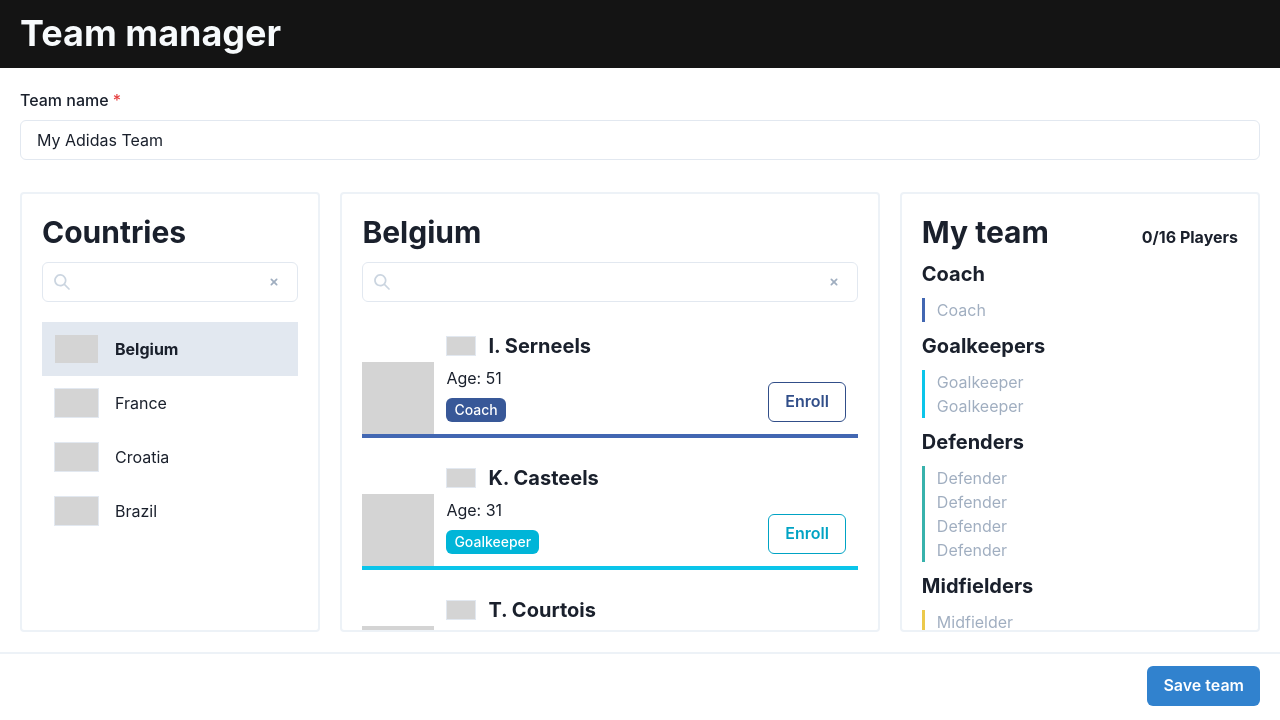
Test: <ManagerPlayersList /> › should be able to filter players list
Type "ee" into the field named "Search players." at (610, 282), box [362, 262, 858, 302]
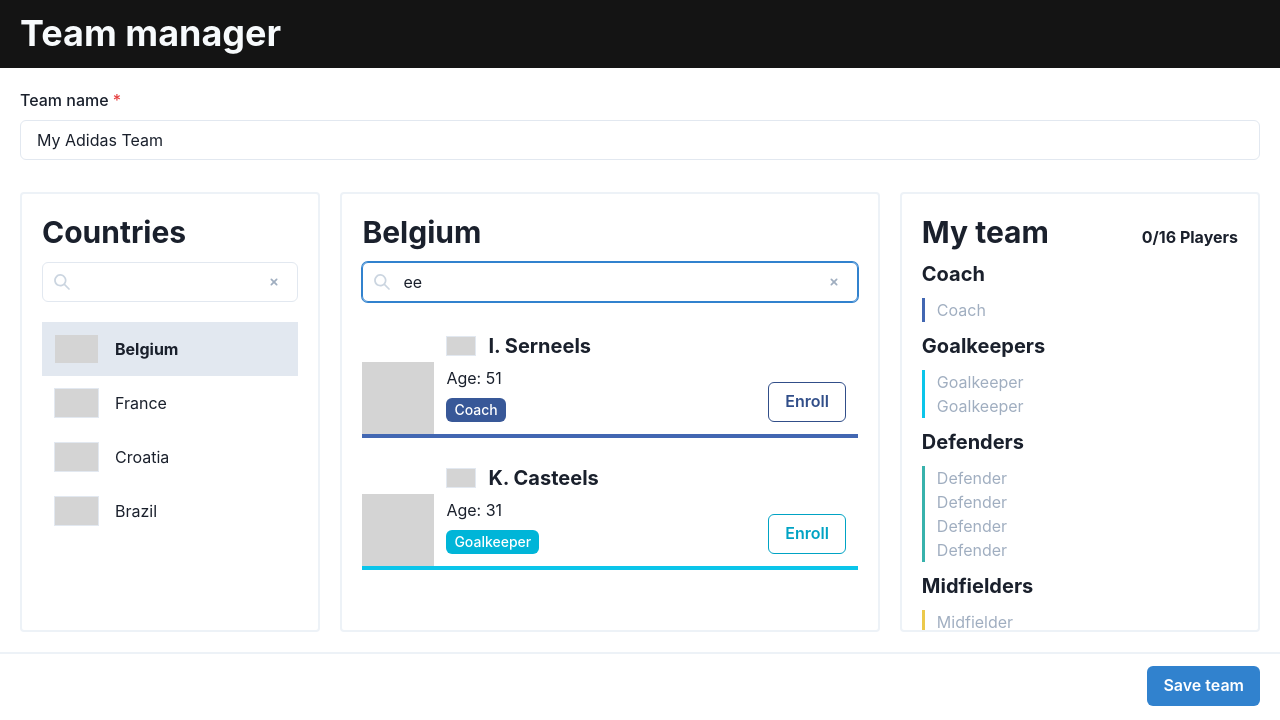
Check: the heading "I. Serneels" is shown, box [446, 334, 591, 358]
Check: the heading "K. Casteels" is shown, box [446, 466, 599, 490]
Click the 2nd button named "Clear player search." at (834, 282), box [815, 268, 853, 296]
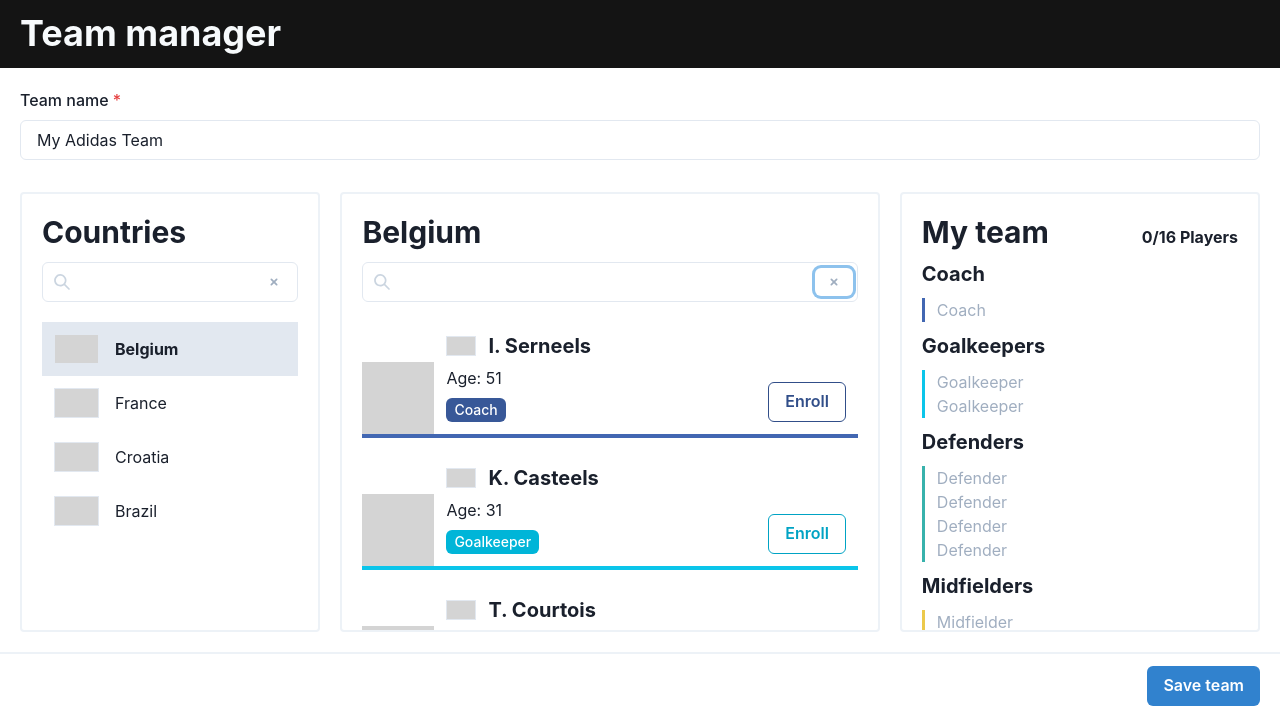
Check: the heading "T. Courtois" is shown, box [446, 598, 596, 622]
Type "DOES_NOT_EXIST" into the field named "Search players." at (610, 282), box [362, 262, 858, 302]
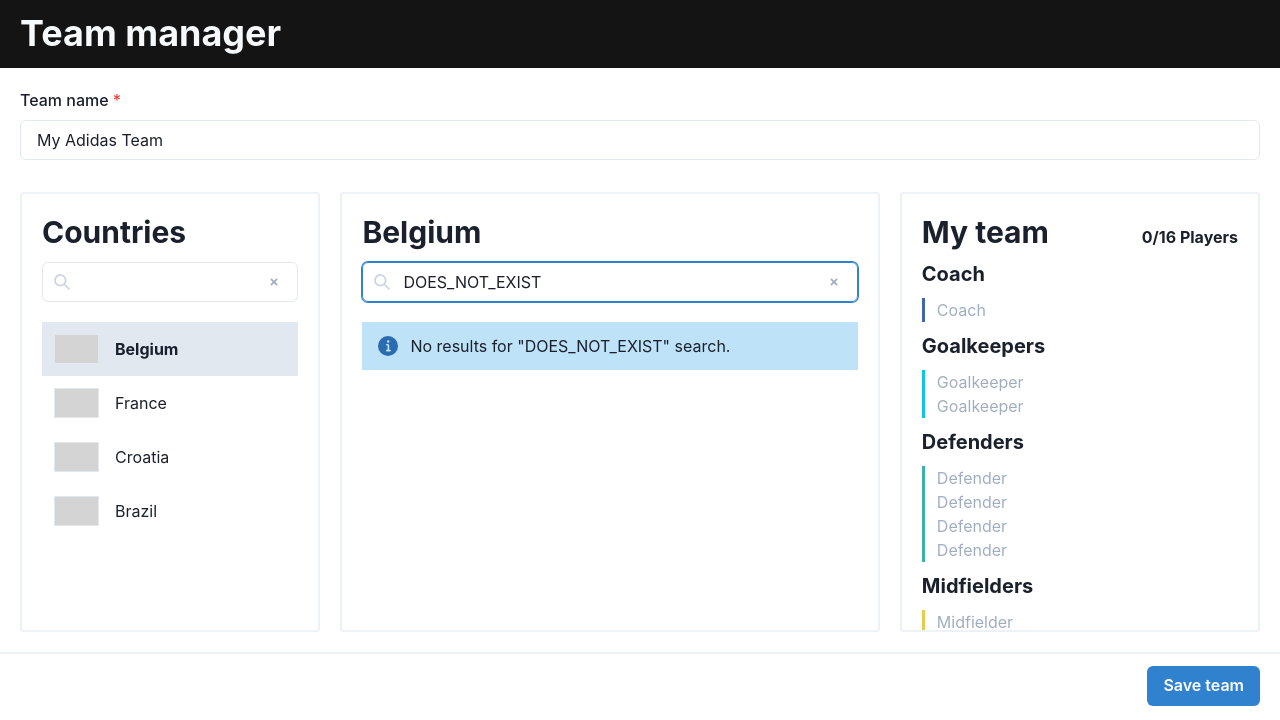
Check: the text "No results for \"DOES_NOT_EXIST\" search." is shown, box [410, 334, 730, 358]
